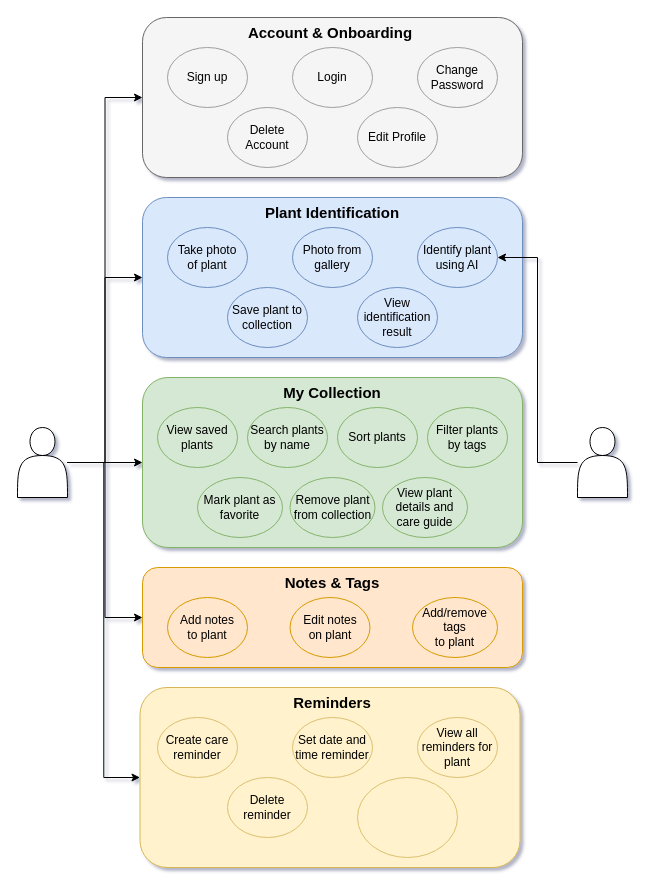
Some shapes in this 651 by 891 pixel diagram are drawn without their labels. Here are the shapes that lost their labels. From the top down, the centre of each, then its label:
At (x=42, y=462): "User".
At (x=602, y=462): "AI System".
At (x=407, y=817): "Receive push notifs when reminder is due".
